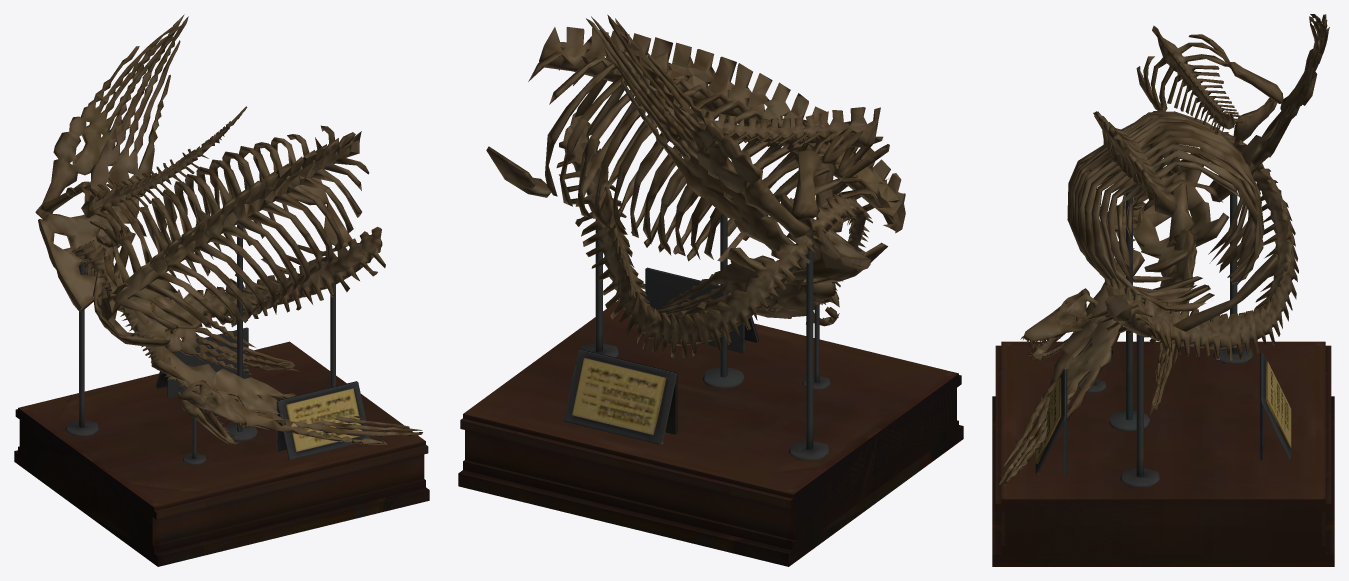
The model's file is fossil-plesio.glb.
3 renders of one model, left to right at view 1: azimuth 30°, elevation 25°; view 2: azimuth 150°, elevation 25°; view 3: azimuth 270°, elevation 25°, orthographic. The views are drawn at different scales.
Visible parts, largest first — view 1: mFtrFossilElasmosaurusB, mFossilBaseMiddle, mFossilBaseEnd (×2), mFtrFossilElasmosaurusC, mFtrFossilElasmosaurusA; view 2: mFossilBaseEnd (×2), mFossilBaseMiddle, mFtrFossilElasmosaurusB, mFtrFossilElasmosaurusC, mFtrFossilElasmosaurusA; view 3: mFossilBaseEnd (×2), mFossilBaseMiddle, mFtrFossilElasmosaurusB, mFtrFossilElasmosaurusA, mFtrFossilElasmosaurusC.
Part boxes in pixels (x1,y1,x2,y2): mFtrFossilElasmosaurusB: [84, 14, 422, 444]; mFossilBaseMiddle: [14, 225, 429, 566]; mFossilBaseEnd (×2): [14, 261, 429, 566]; mFtrFossilElasmosaurusC: [35, 23, 300, 374]; mFtrFossilElasmosaurusA: [69, 226, 385, 444]; mFossilBaseEnd (×2): [458, 219, 960, 566]; mFossilBaseMiddle: [458, 118, 963, 566]; mFtrFossilElasmosaurusB: [486, 16, 905, 318]; mFtrFossilElasmosaurusC: [607, 14, 889, 319]; mFtrFossilElasmosaurusA: [556, 112, 872, 358]; mFossilBaseEnd (×2): [992, 186, 1334, 566]; mFossilBaseMiddle: [992, 189, 1334, 566]; mFtrFossilElasmosaurusB: [998, 18, 1329, 486]; mFtrFossilElasmosaurusA: [1020, 126, 1298, 361]; mFtrFossilElasmosaurusC: [1136, 14, 1327, 415].
Bounding box in the file's own units: 20.11 × 28.83 × 18.33.
Materials: 6 (6 with a texture image).
